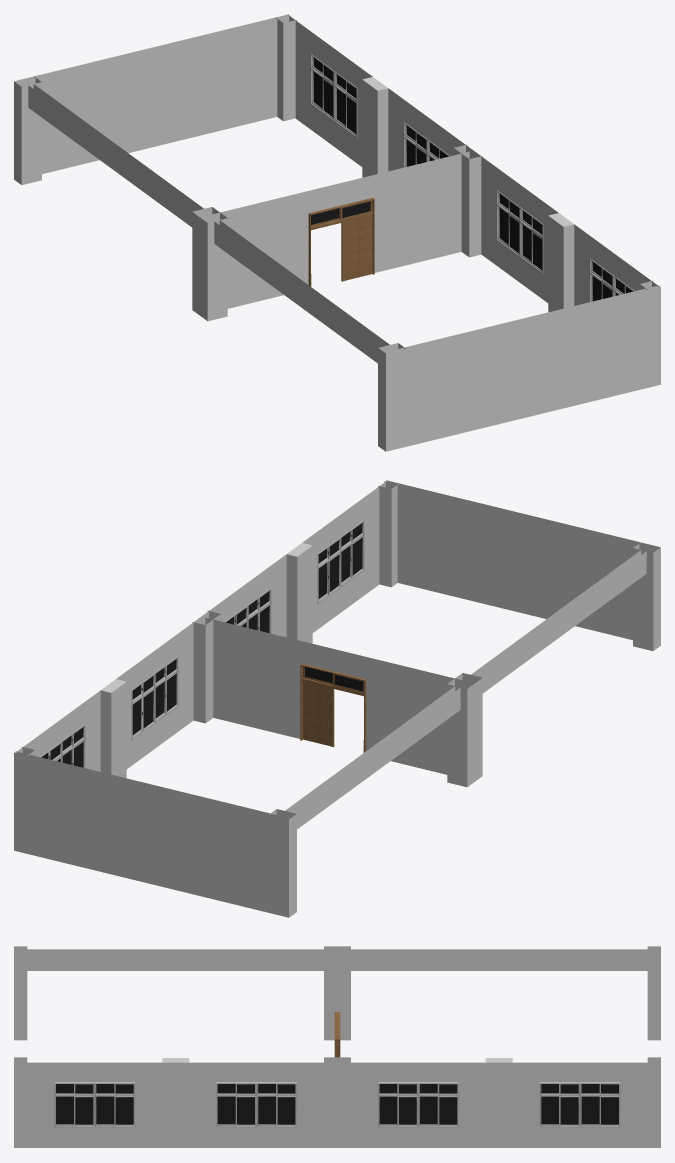
File: Server&Computer.fbx
3 renders of one model, top to bottom at view 1: azimuth 30°, elevation 25°; view 2: azimuth 150°, elevation 25°; view 3: azimuth 270°, elevation 25°, orthographic. The views are drawn at different scales.
Parts seen in each view (by area): view 1: Server_Computer, M_Partition03, Window_01__2_, Window_01_1, Window_01__1_, Window_01; view 2: Server_Computer, M_Partition03, Window_01, Window_01__1_, Window_01_1, Window_01__2_; view 3: Server_Computer, Window_01, Window_01__2_, Window_01_1, Window_01__1_, M_Partition03.
Part boxes in pixels (box(x1,y1,x2,y2)): Server_Computer: box(14, 14, 660, 451); M_Partition03: box(308, 197, 374, 286); Window_01__2_: box(310, 54, 357, 138); Window_01_1: box(496, 190, 543, 274); Window_01__1_: box(403, 122, 449, 167); Window_01: box(589, 258, 634, 302); Server_Computer: box(14, 480, 660, 917); M_Partition03: box(300, 663, 366, 752); Window_01: box(317, 520, 364, 604); Window_01__1_: box(131, 656, 178, 740); Window_01_1: box(225, 588, 271, 633); Window_01__2_: box(40, 724, 85, 768); Server_Computer: box(14, 946, 660, 1147); Window_01: box(54, 1082, 135, 1127); Window_01__2_: box(539, 1082, 620, 1127); Window_01_1: box(216, 1082, 296, 1127); Window_01__1_: box(378, 1082, 458, 1127); M_Partition03: box(334, 1012, 340, 1057).
Size of the model in its own units: 1030 by 350 by 2400.
